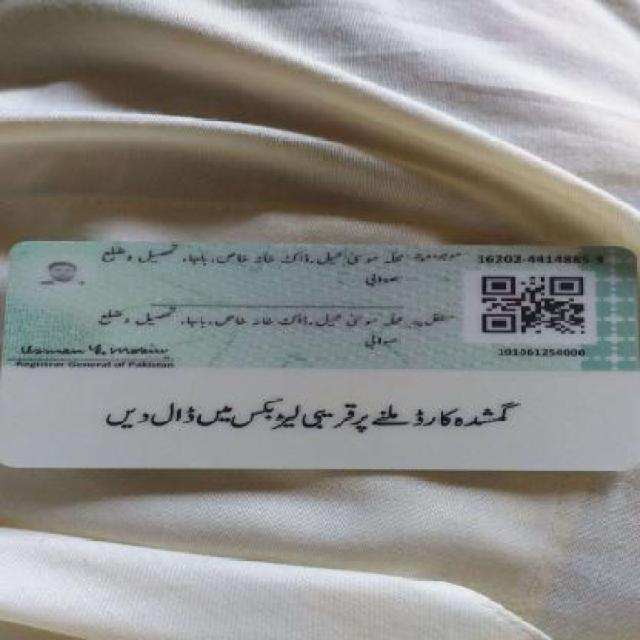Back: (7, 238, 636, 472)
